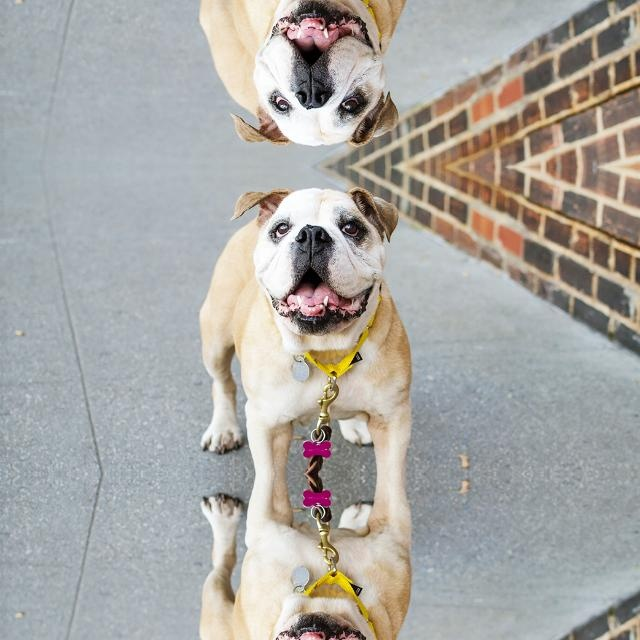dog: (182, 178, 432, 473), (182, 473, 431, 640), (182, 0, 431, 153)
